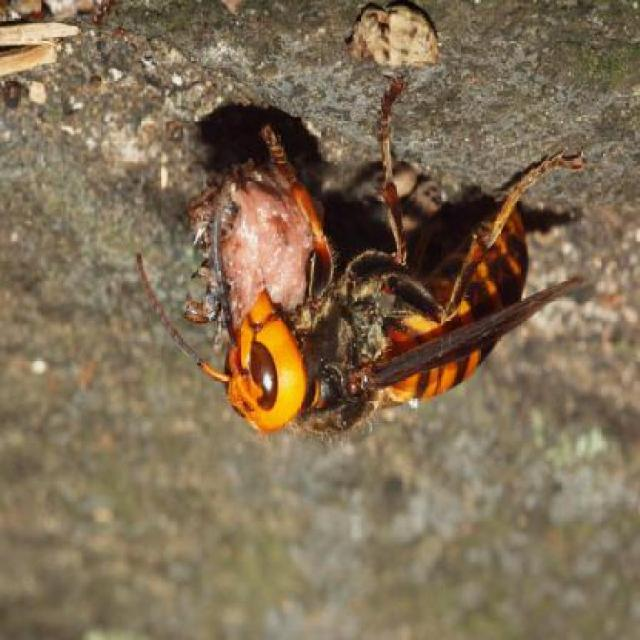Wasp: (138, 70, 596, 442)
